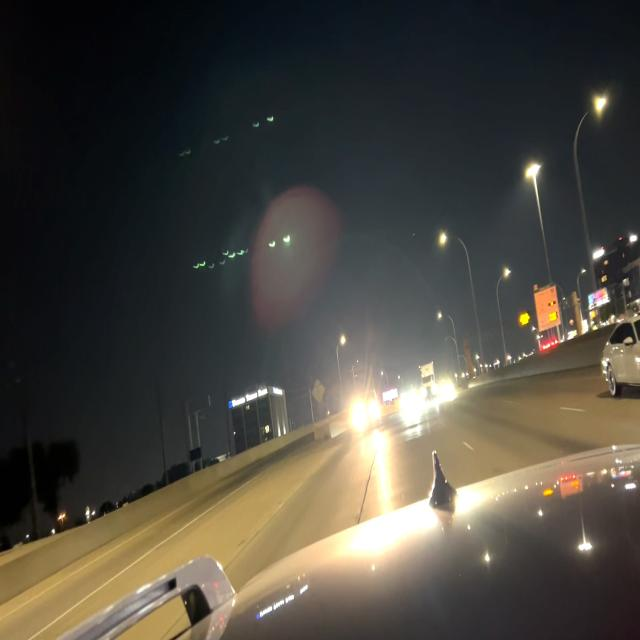back-of-sign: (311, 377, 326, 407)
